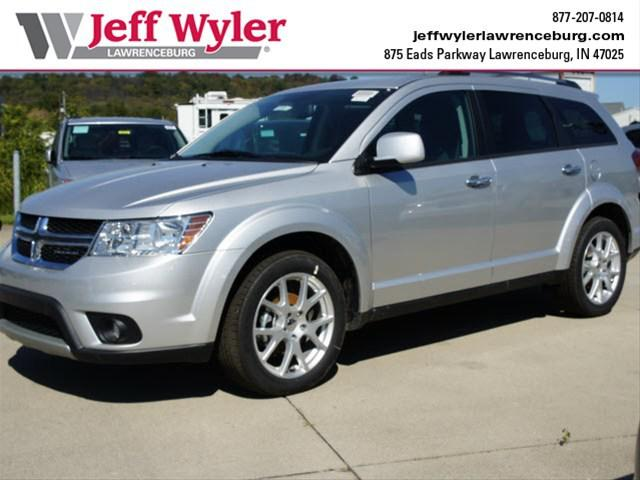Car: (1, 67, 640, 404)
